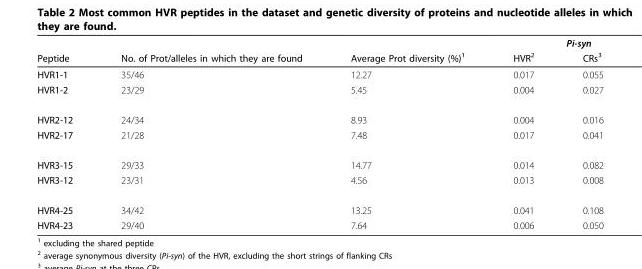table: (36, 36, 602, 230)
table column: (96, 36, 325, 230), (325, 36, 488, 230), (488, 36, 557, 230), (36, 36, 96, 230), (557, 36, 602, 230)
table column header: (36, 36, 602, 65)
table row: (36, 81, 602, 104), (36, 126, 602, 149), (36, 149, 602, 172), (36, 194, 602, 217), (36, 104, 602, 126), (36, 172, 602, 194), (36, 49, 602, 65), (36, 65, 602, 81), (36, 36, 602, 49), (36, 217, 602, 230)
table spanning cell: (96, 36, 325, 65), (325, 36, 488, 65), (36, 36, 96, 65), (488, 36, 602, 49)
